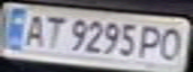2: (84, 17, 106, 55)
5: (118, 19, 142, 57)
9: (63, 16, 90, 53), (103, 18, 124, 56)
A: (18, 10, 51, 47)
O: (154, 25, 190, 62)
P: (136, 21, 169, 60)
T: (36, 11, 69, 50)
